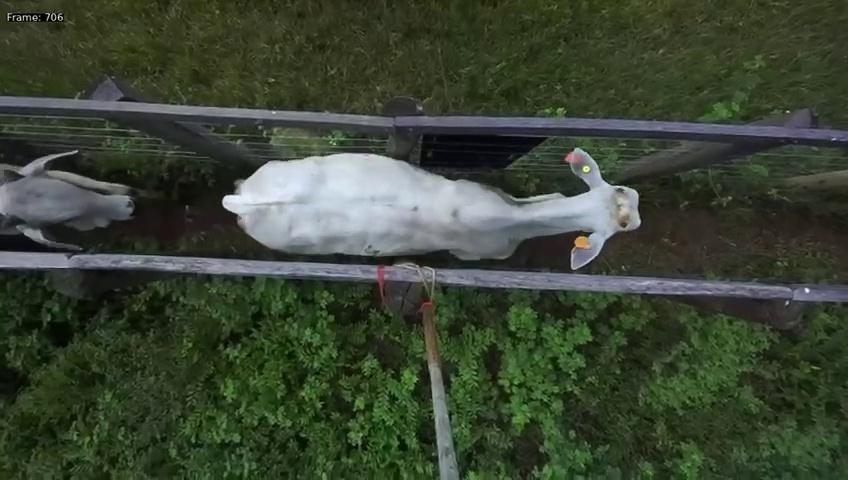cattle: (218, 139, 642, 269)
